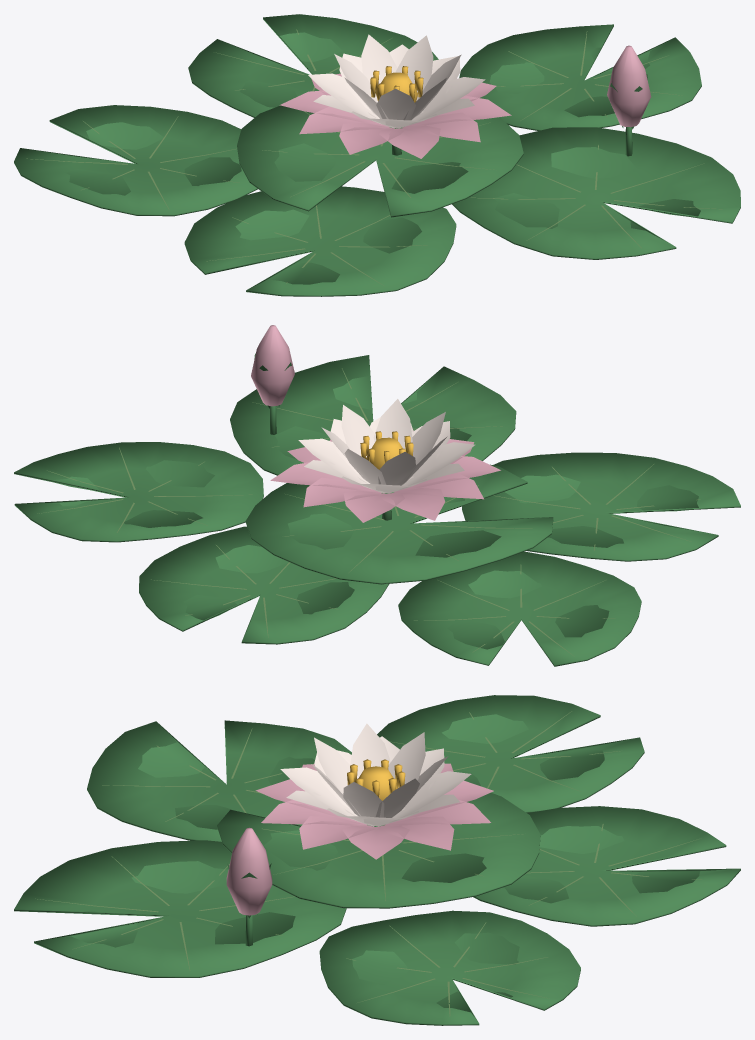
File: water_lily.glb
3 renders of one model, top to bottom at view 1: azimuth 30°, elevation 25°; view 2: azimuth 150°, elevation 25°; view 3: azimuth 270°, elevation 25°, orthographic. The views are drawn at different scales.
Parts seen in each view (by area): view 1: GEO-WaterLilyCluster; view 2: GEO-WaterLilyCluster; view 3: GEO-WaterLilyCluster.
Boxes of the visible parts, x1,y1,x2,y2 form: GEO-WaterLilyCluster: (14, 14, 740, 296); GEO-WaterLilyCluster: (14, 325, 740, 666); GEO-WaterLilyCluster: (14, 695, 740, 1025).
Size of the model in its own units: 0.9428 by 0.173 by 0.8773.
